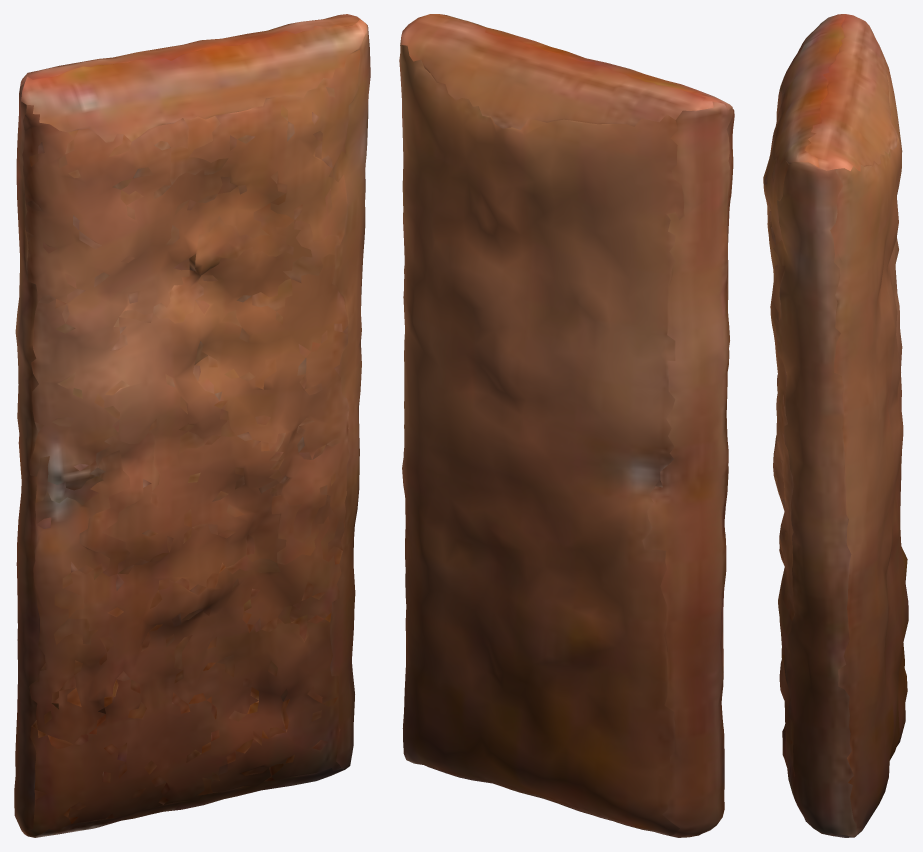
Rendered from 11_cabinet.glb.
3 views of the same model, side by side, from view 1: azimuth 30°, elevation 25°; view 2: azimuth 150°, elevation 25°; view 3: azimuth 270°, elevation 25° (orthographic). The views are drawn at different scales.
Visible parts, largest first — view 1: 11_cabinet; view 2: 11_cabinet; view 3: 11_cabinet.
Boxes of the visible parts, x1,y1,x2,y2 form: 11_cabinet: (14,14,370,837); 11_cabinet: (399,14,734,837); 11_cabinet: (763,14,908,837).
Bounding box in the file's own units: 1.05 × 2.25 × 0.4277.
1 material, 1 textured.
